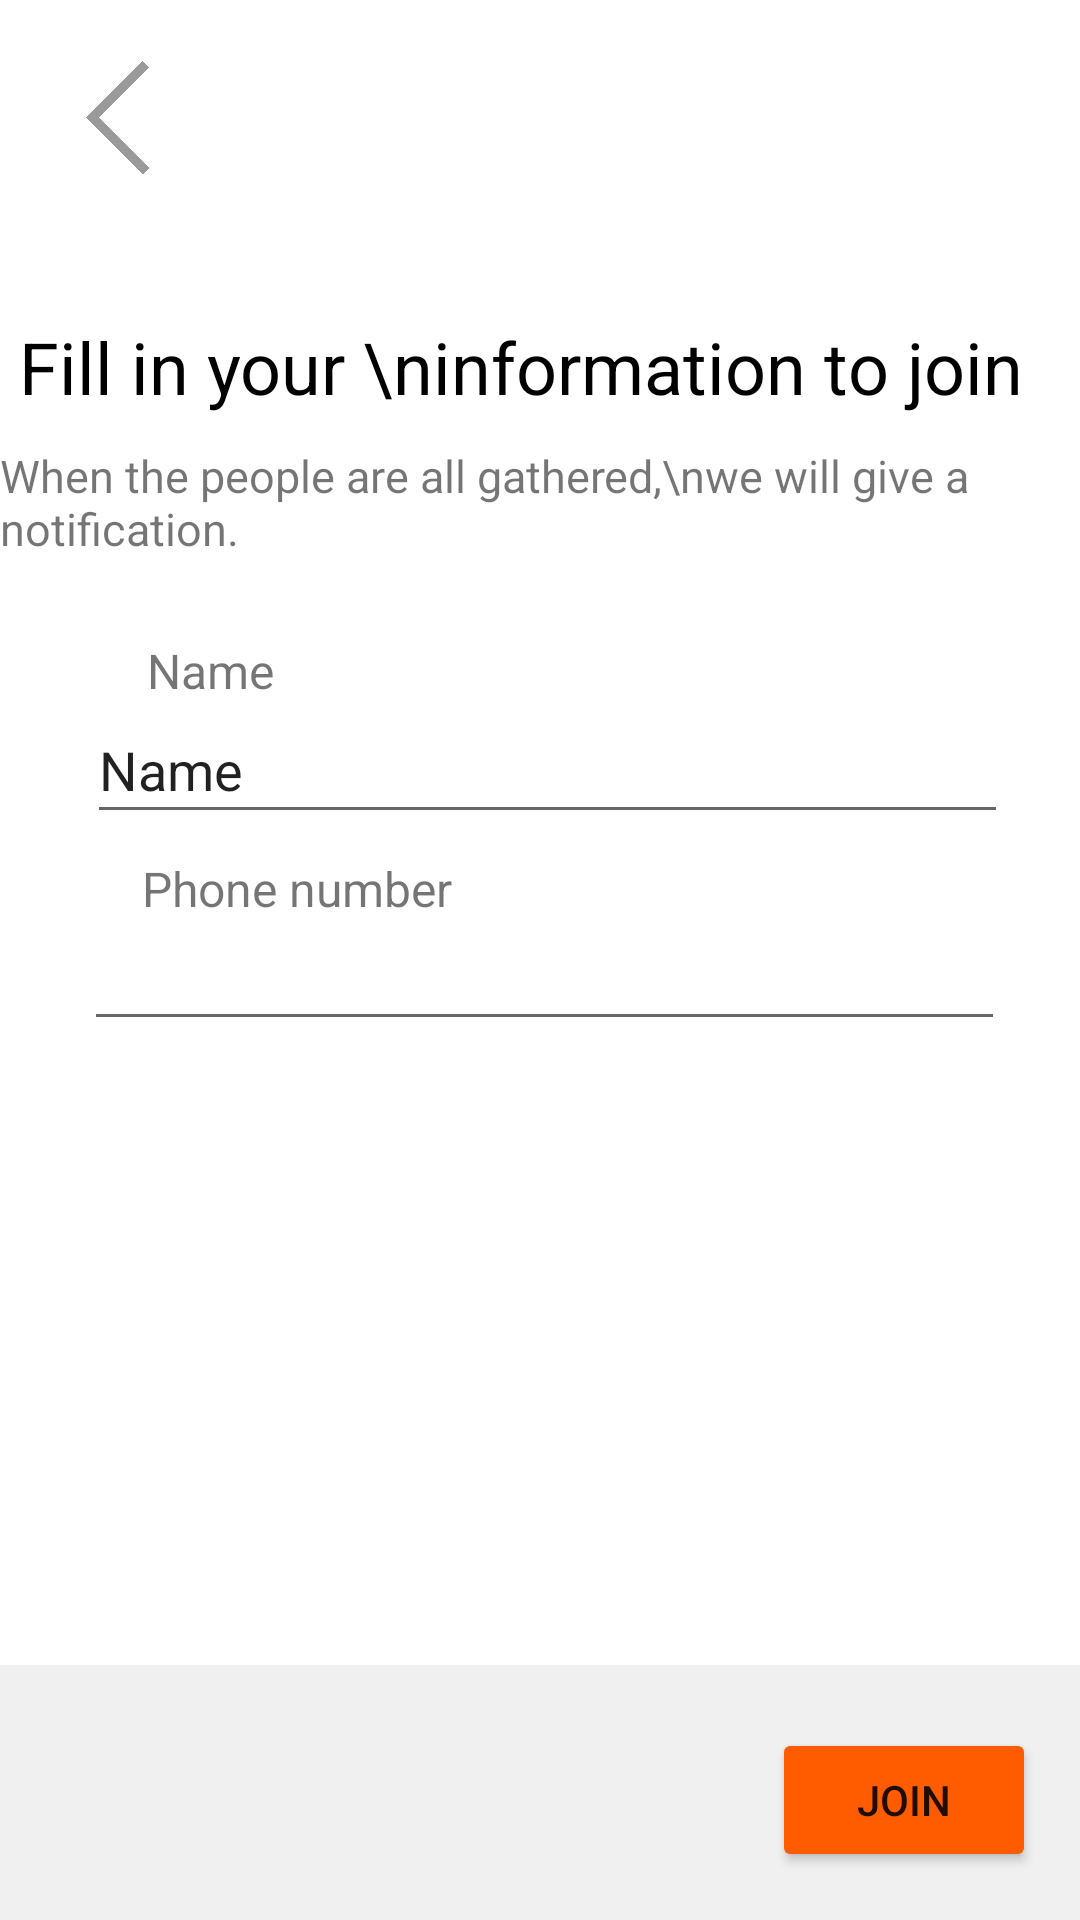

Where icons sit on this 1080×1920 app screen, as (x1, y1, x2, y2):
prebutton: (86, 61, 149, 174)
